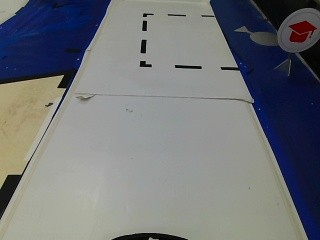school: (278, 10, 318, 53)
